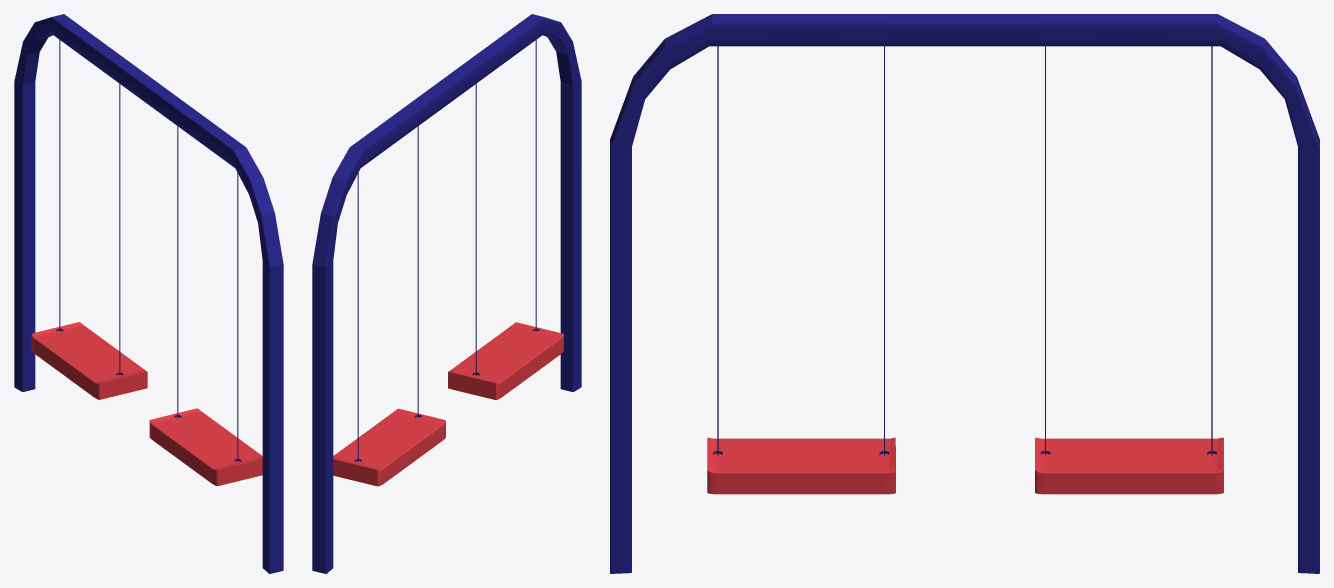
The model's file is Swing.fbx.
3 views of the same model, side by side, from view 1: azimuth 30°, elevation 25°; view 2: azimuth 150°, elevation 25°; view 3: azimuth 270°, elevation 25° (orthographic). The views are drawn at different scales.
Parts seen in each view (by area): view 1: Cube; view 2: Cube; view 3: Cube.
Part boxes in pixels (left/top/right/bottom): Cube: left=14, top=14, right=283, bottom=573; Cube: left=312, top=14, right=581, bottom=573; Cube: left=610, top=14, right=1319, bottom=573.
Size of the model in its own units: 95.94 by 715 by 835.
